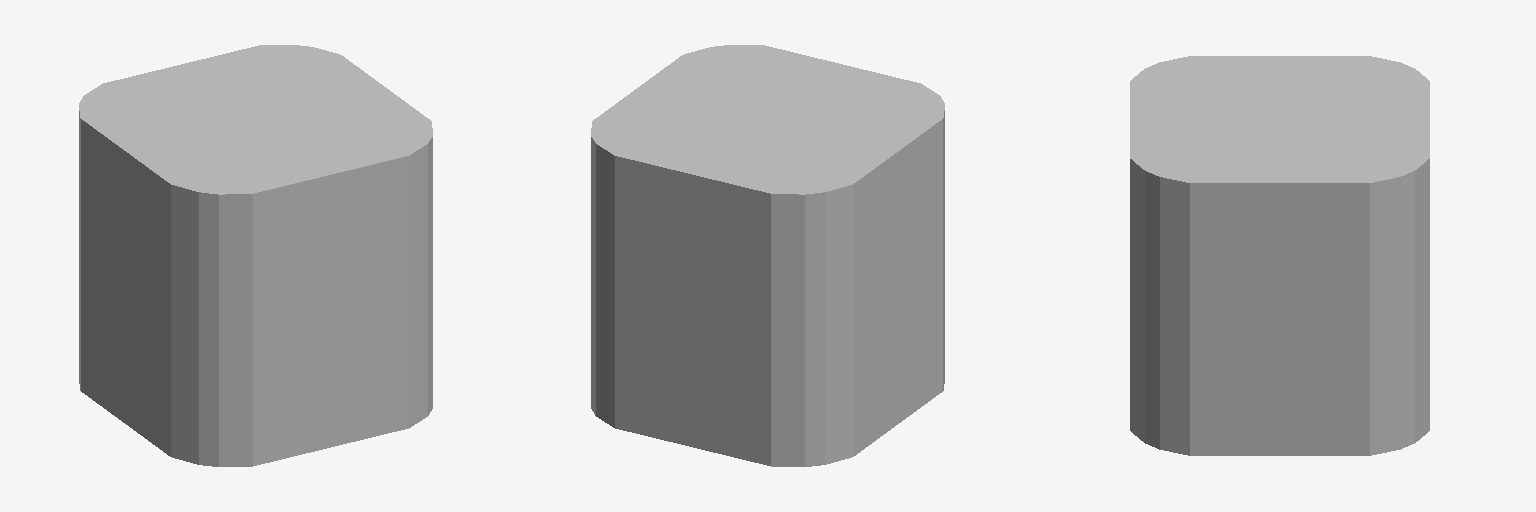
File: SimpleCard.obj
3 renders of one model, left to right at view 1: azimuth 30°, elevation 25°; view 2: azimuth 150°, elevation 25°; view 3: azimuth 270°, elevation 25°, orthographic.
Parts seen in each view (by area): view 1: MySimpleCard; view 2: MySimpleCard; view 3: MySimpleCard.
Part boxes in pixels (bbox=[...]): MySimpleCard: bbox=[79, 45, 432, 466]; MySimpleCard: bbox=[591, 45, 944, 466]; MySimpleCard: bbox=[1130, 56, 1429, 455].
Bounding box in the file's own units: 1 × 1 × 1.